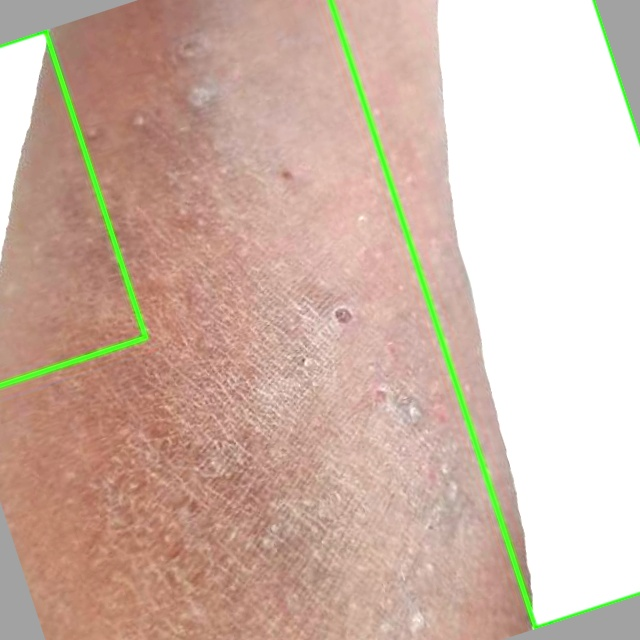Contact Dermatitis: (330, 0, 639, 628)
